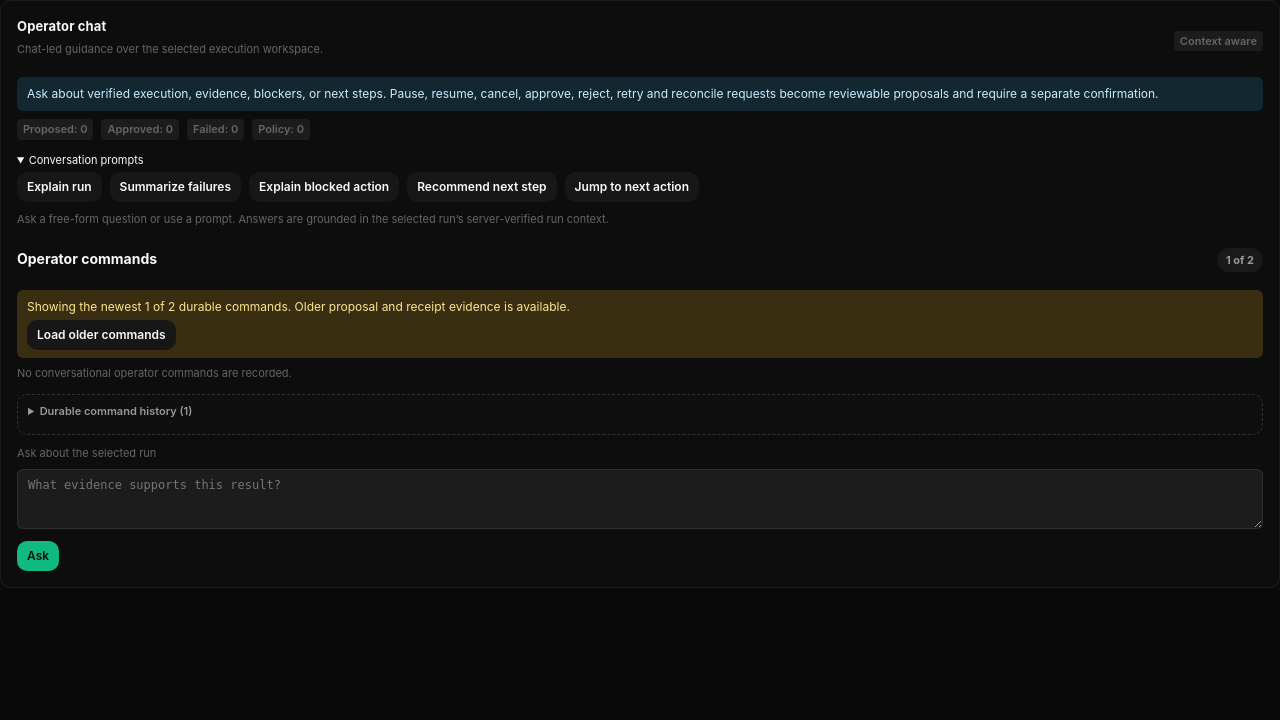
it: OperatorConsoleChat › exposes incomplete history and loads older durable command evidence
Expected: the text "Showing the newest 1 of 2 durable commands" is shown, [17, 290, 1263, 358]
Click the button "Load older commands" at (101, 335), box [27, 320, 176, 350]
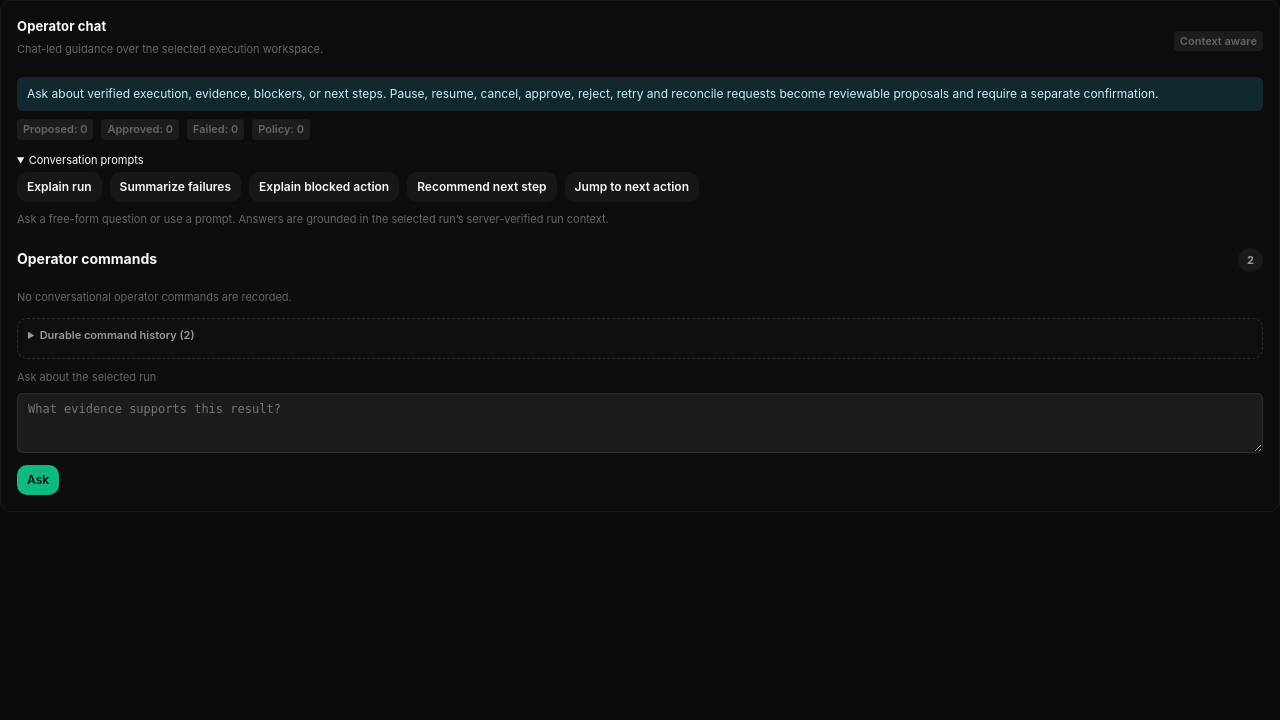
Click the heading "Durable command history (2)" at (117, 335), box [40, 328, 194, 342]
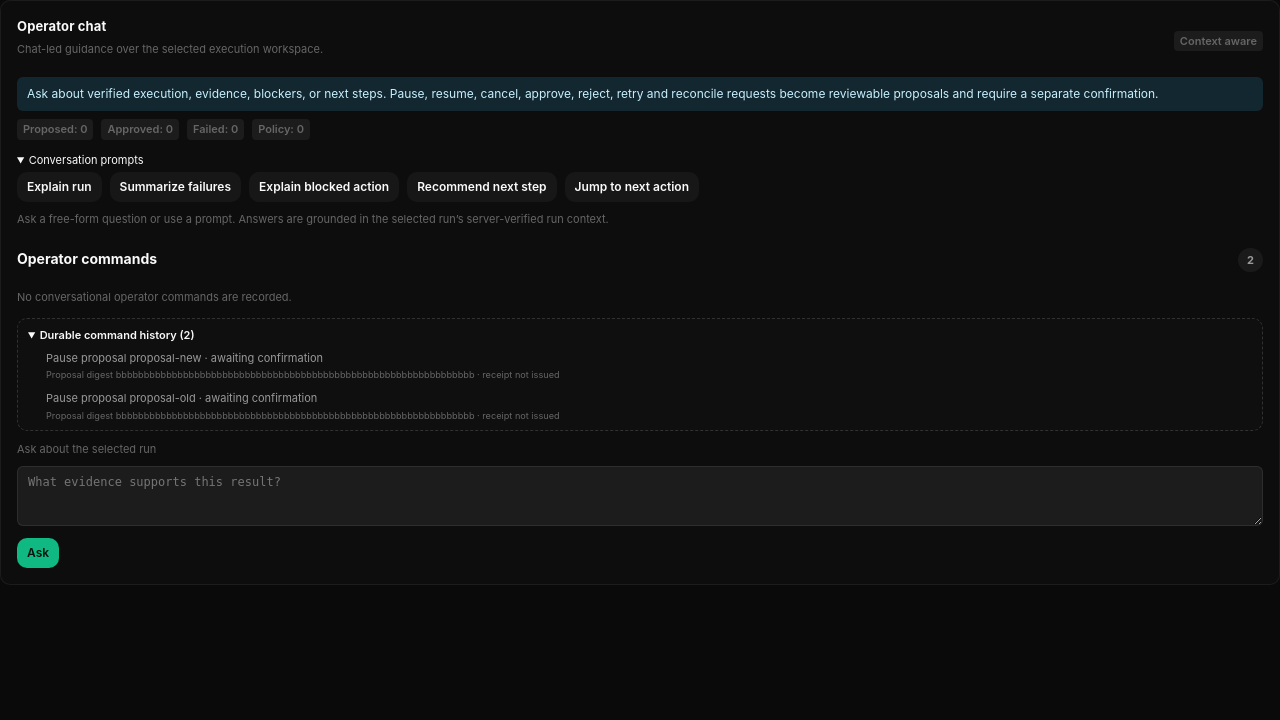
Expected: the text "Showing the newest 1 of 2 durable commands" is not shown
Now the text "Pause proposal proposal-old · awaiting confirmation" is shown, box [46, 391, 317, 405]
